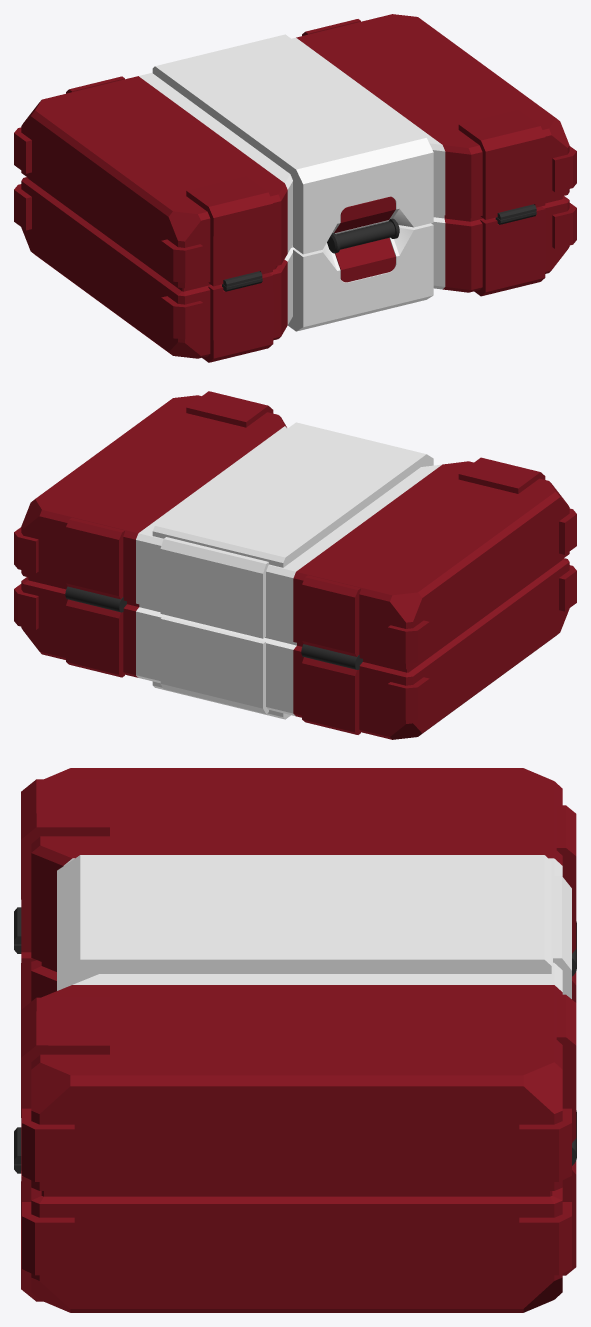
Rendered from medical_kit_1_low.fbx.
3 views of the same model, one above another, from view 1: azimuth 30°, elevation 25°; view 2: azimuth 150°, elevation 25°; view 3: azimuth 270°, elevation 25° (orthographic). The views are drawn at different scales.
Parts seen in each view (by area): view 1: Cube_low, Cube_Plate_low, Cube_Plate.001_low, Cube_Plate.002_low, Cube_Plate_m1_low, Cylinder.001_low, Cube_Castle_low, Cube_Plate.004_low; view 2: Cube_low, Cube_Plate_low, Cube_Plate.003_low, Cube_Plate.004_low, Cube_Plate.002_low, Cube_Plate.001_low, Cylinder_low; view 3: Cube_low, Cube_Plate_low, Cube_Plate.001_low, Cube_Plate.002_low, Cube_Plate.004_low, Cube_Plate.003_low.
Part boxes in pixels (bbox=[...]): Cube_low: bbox=[21, 14, 569, 358]; Cube_Plate_low: bbox=[152, 34, 433, 331]; Cube_Plate.001_low: bbox=[186, 110, 545, 362]; Cube_Plate.002_low: bbox=[14, 127, 576, 339]; Cube_Plate_m1_low: bbox=[334, 196, 395, 282]; Cylinder.001_low: bbox=[327, 218, 399, 253]; Cube_Castle_low: bbox=[223, 204, 536, 286]; Cube_Plate.004_low: bbox=[66, 19, 360, 93]; Cube_low: bbox=[21, 395, 569, 739]; Cube_Plate_low: bbox=[152, 422, 433, 719]; Cube_Plate.003_low: bbox=[160, 537, 268, 713]; Cube_Plate.004_low: bbox=[66, 517, 360, 734]; Cube_Plate.002_low: bbox=[14, 508, 576, 720]; Cube_Plate.001_low: bbox=[186, 391, 545, 493]; Cylinder_low: bbox=[65, 586, 362, 669]; Cube_low: bbox=[31, 768, 562, 1312]; Cube_Plate_low: bbox=[57, 855, 551, 990]; Cube_Plate.001_low: bbox=[21, 779, 109, 1301]; Cube_Plate.002_low: bbox=[22, 1108, 571, 1275]; Cube_Plate.004_low: bbox=[556, 805, 576, 1275]; Cube_Plate.003_low: bbox=[553, 876, 571, 998].
Bounding box in the file's own units: 576 × 221 × 424.
